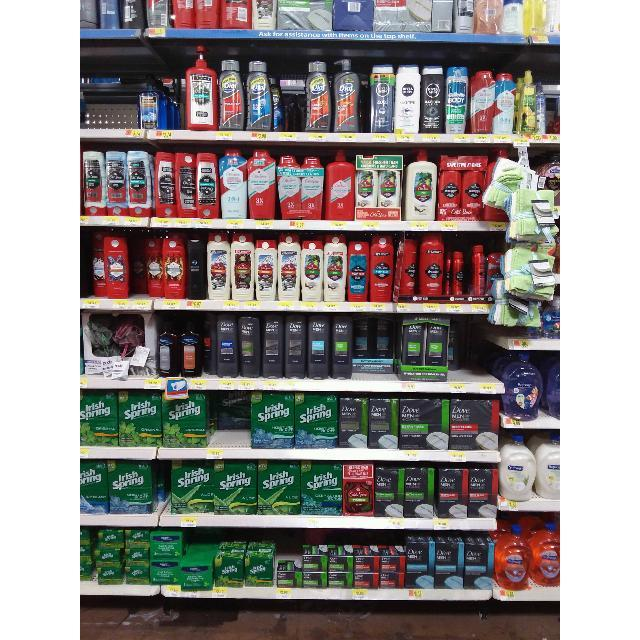empty: (81, 40, 139, 128), (461, 313, 494, 382), (283, 39, 305, 131)
front: (212, 428, 252, 448), (352, 371, 398, 382)
